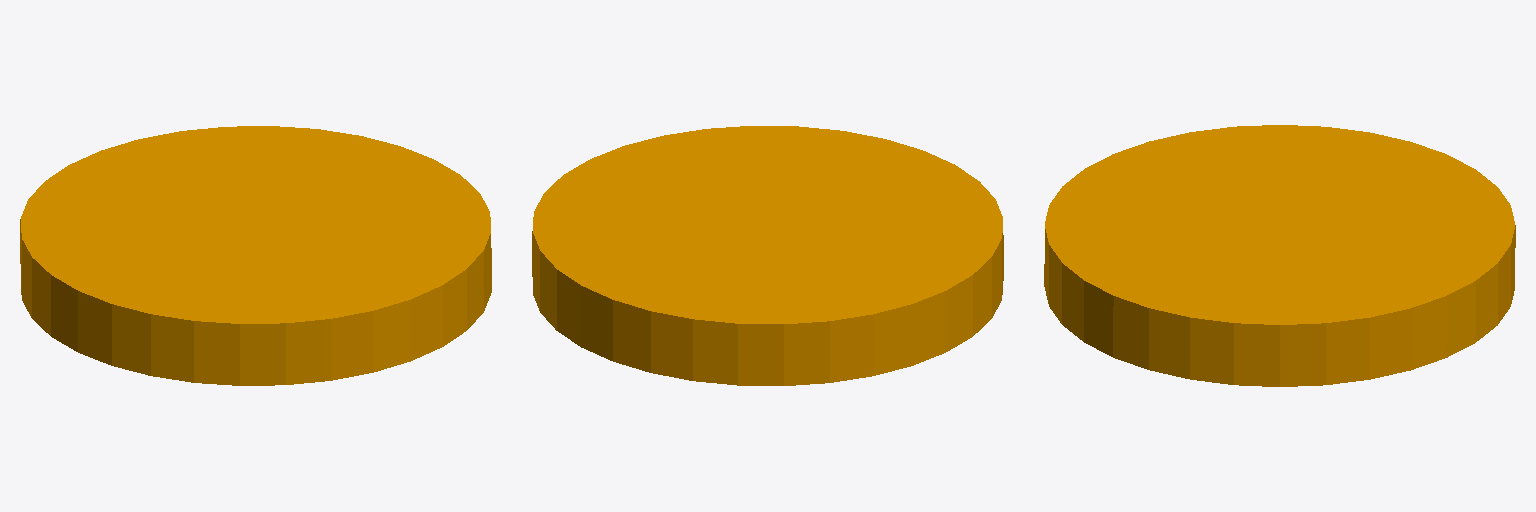
URDF robot description (chesspiece12.urdf):
<?xml version="0.0" ?>
<robot name="chesspiece12.urdf">
  <link name="chesspiece12">
    <visual>
      <origin rpy="1.57 0 0" xyz="0 0 0"/>
      <geometry>
        <mesh filename="b12.obj"/>
      </geometry>
    </visual>
    
    <collision>
      <origin rpy="1.57 0 0" xyz="0 0 0.0"/>
      <geometry>
  	    <mesh filename="b12.obj"/>
      </geometry>
    </collision>
  </link>

</robot>

--- Render facts (derived) ---
3 views of the same robot in one strip: view 1: azimuth 30°, elevation 25°; view 2: azimuth 150°, elevation 25°; view 3: azimuth 270°, elevation 25° (orthographic).
Model chesspiece12.urdf with 1 links and 0 joints (none), rooted at chesspiece12, posed every joint at zero.
Links seen in each view (by area): view 1: chesspiece12; view 2: chesspiece12; view 3: chesspiece12.
Link boxes in pixels (x1,y1,x2,y2): chesspiece12: (20, 126, 491, 385); chesspiece12: (532, 126, 1003, 385); chesspiece12: (1044, 125, 1515, 386).
Bounding box of the posed robot: 0.3145 × 0.3123 × 0.0457 m (x, y, z).
1 mesh visuals loaded from 1 distinct referenced files (1 OBJ).